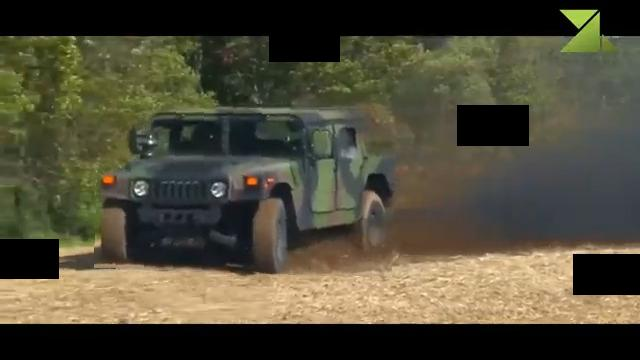MIL_HMMWV: (96, 103, 396, 275)
